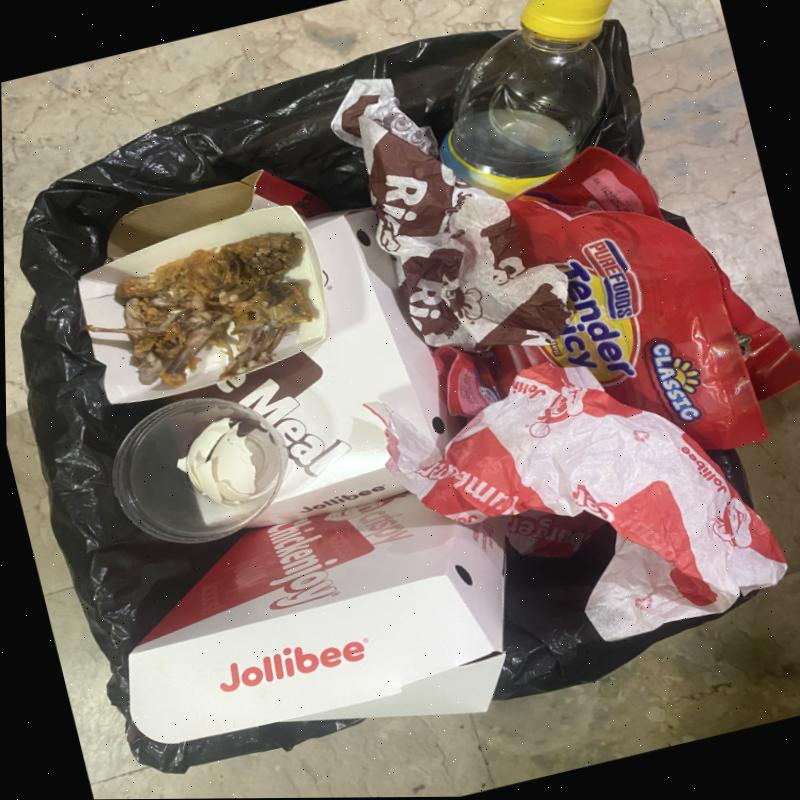cardboard: (148, 209, 466, 526), (126, 494, 512, 745), (104, 171, 308, 269)
egg shell: (175, 418, 282, 507)
food wrapper: (432, 146, 800, 451)
left-over food: (113, 236, 323, 388)
paper: (363, 362, 792, 640), (333, 79, 568, 352)
plastic bottle: (442, 0, 611, 201)
